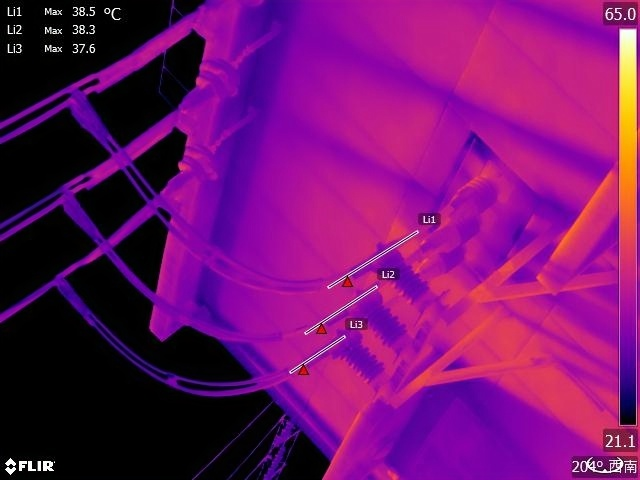clamp: (62, 83, 111, 144), (50, 182, 103, 237), (51, 270, 95, 327)
insulator: (259, 412, 289, 480)
post insulator: (347, 284, 411, 352), (367, 241, 430, 303), (326, 329, 390, 386)
tube: (436, 162, 500, 225), (422, 208, 485, 255), (415, 241, 470, 282)
